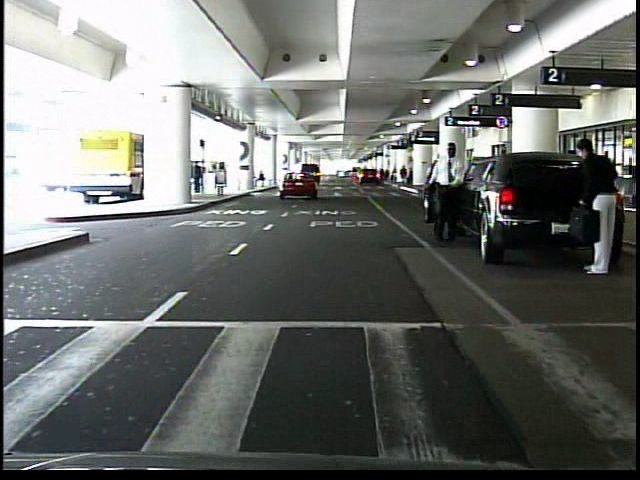person: (566, 136, 615, 276), (426, 140, 457, 241), (191, 160, 205, 196), (399, 165, 410, 188)
